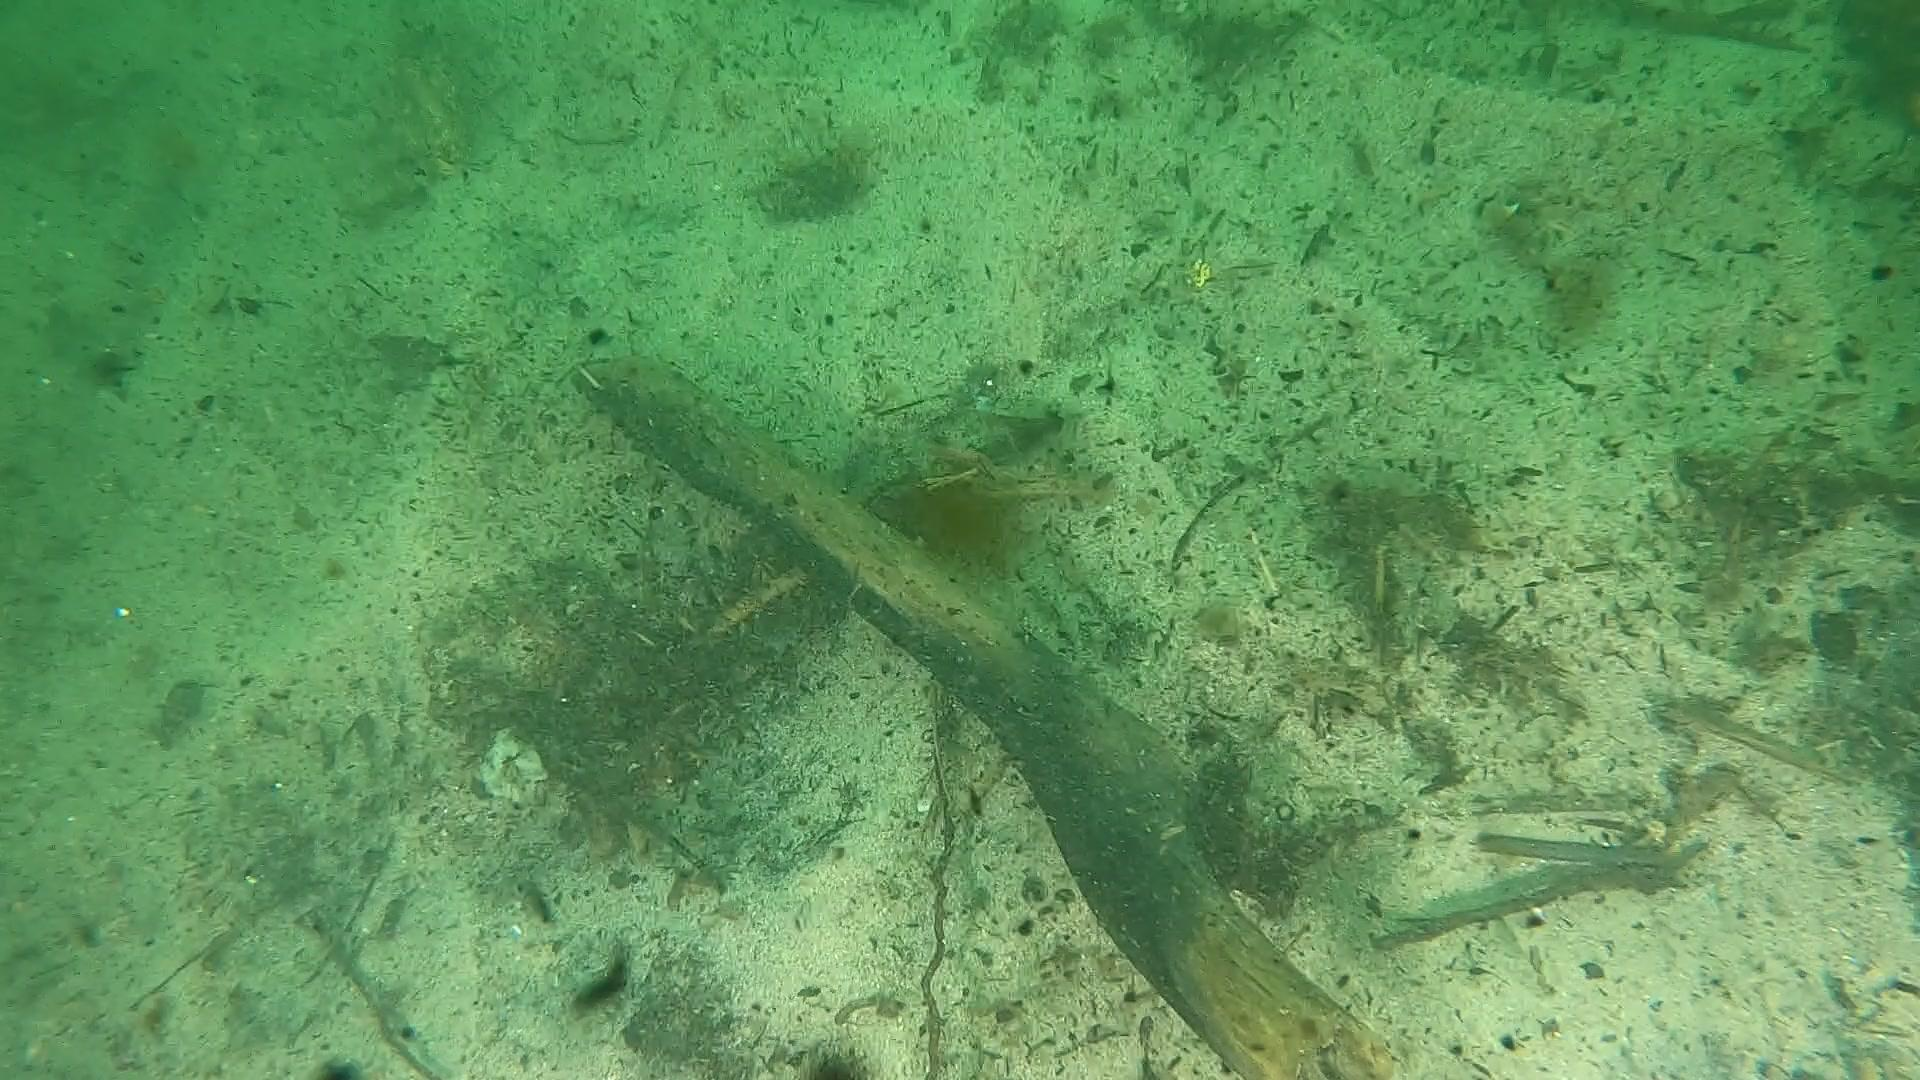wood: (568, 361, 1393, 1080)
